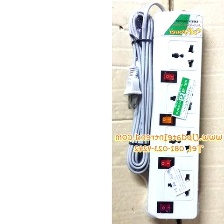three_eye_plug: (144, 9, 206, 221)
